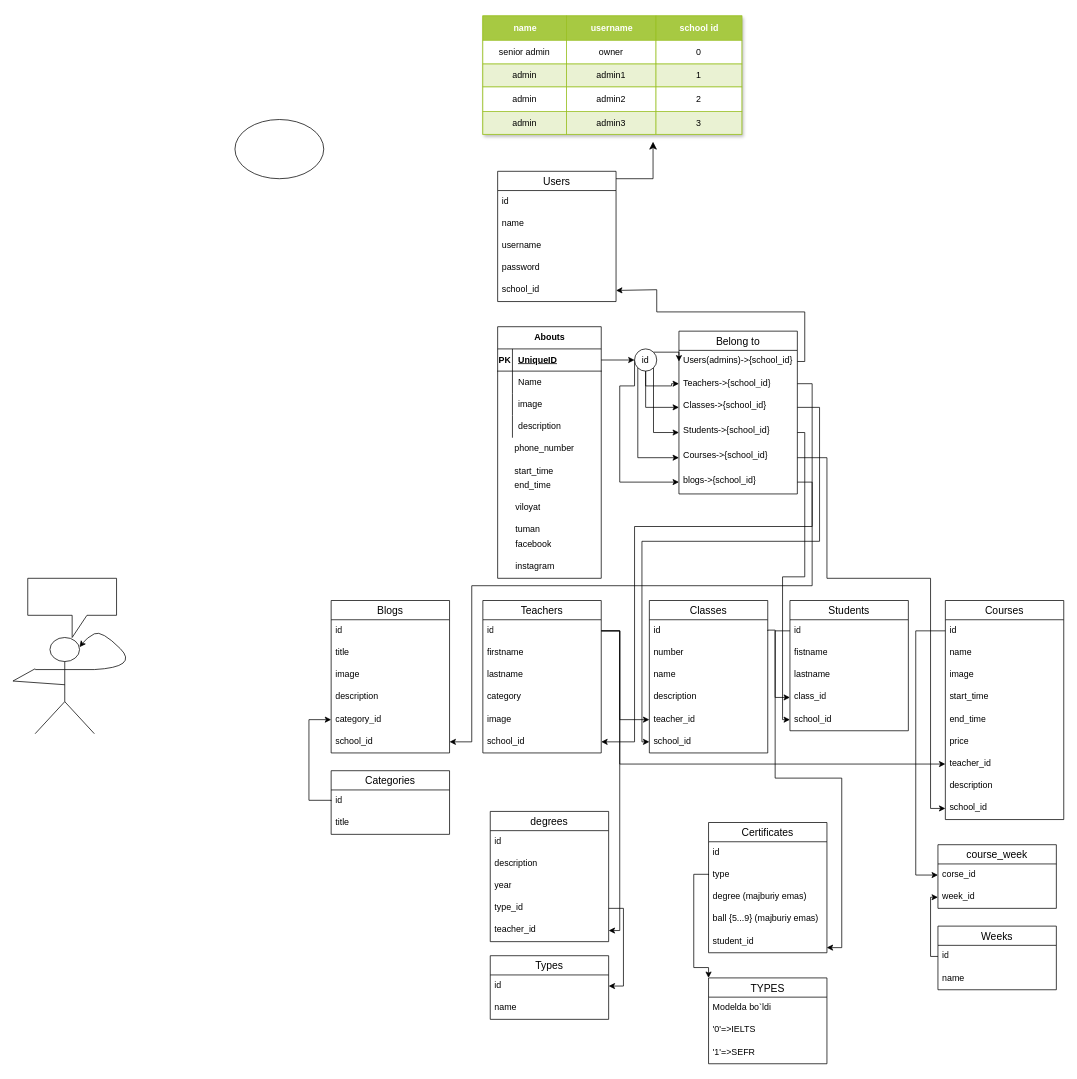
Image size: 1077x1079. Some labels were removed from this diagram. The centre of each missing label's shape, as x and y in pixels:
Actor: the point at 64,685
Are you understand: the point at 72,608
hello: the point at 279,149
